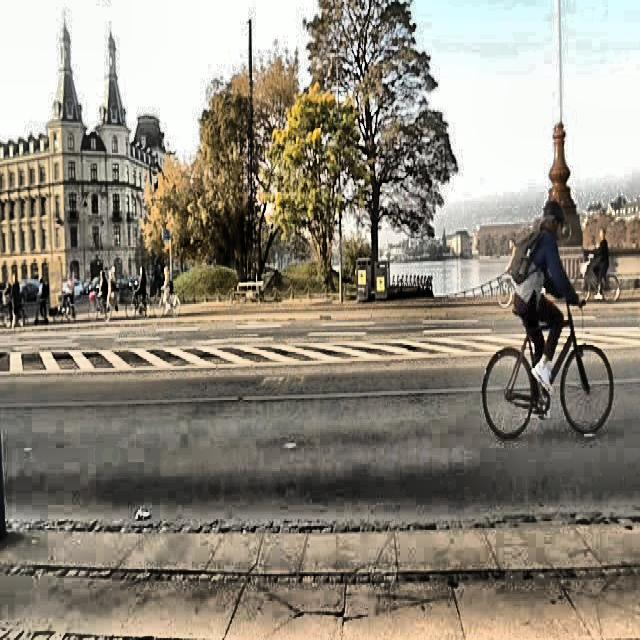bicycle: (476, 299, 617, 445)
